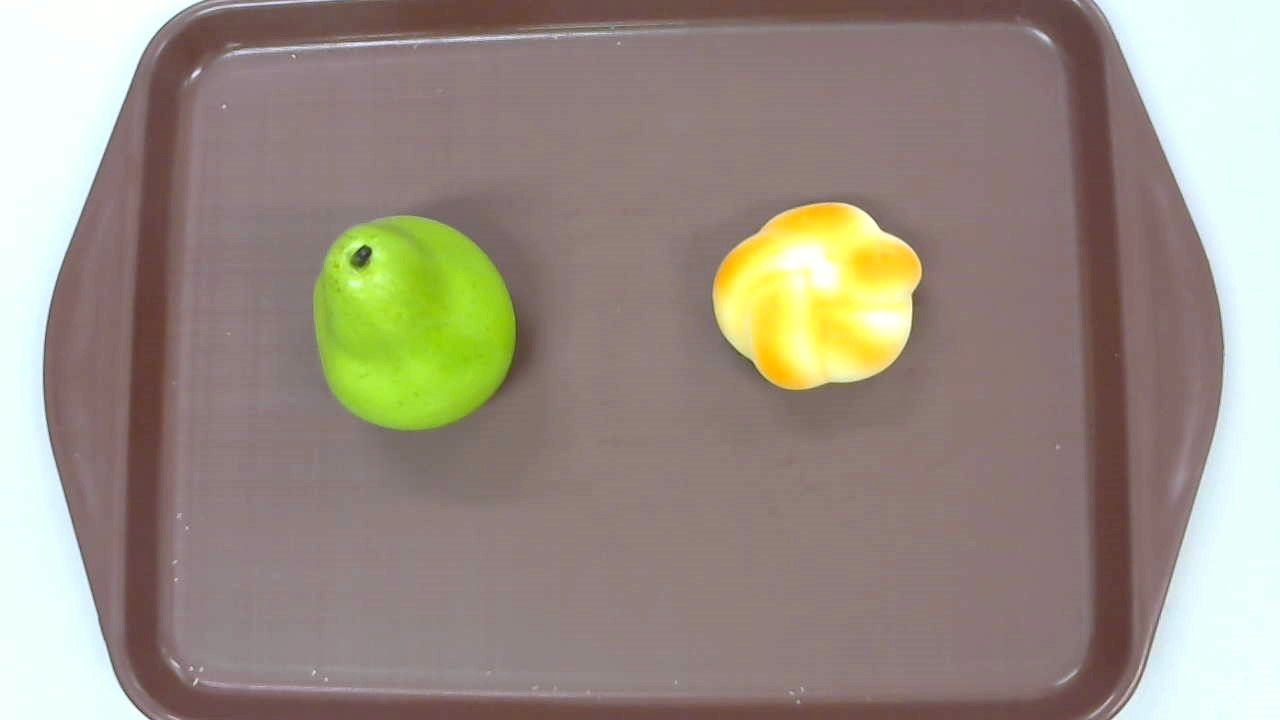green pear: (313, 216, 516, 432)
twist bread: (712, 202, 922, 391)
